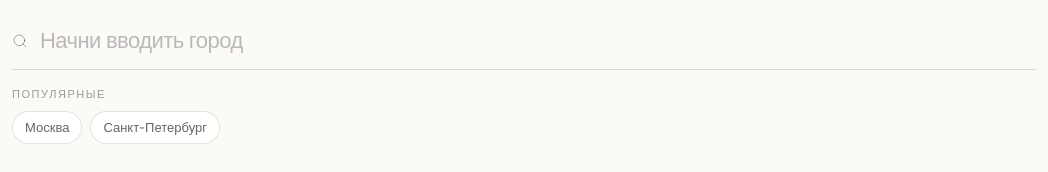
Test: CityPicker › shows an accessible alert when the search fails (not a silent empty list)
Type "Мос" into the field at coordinates (524, 41), box 12,12 -> 1036,70
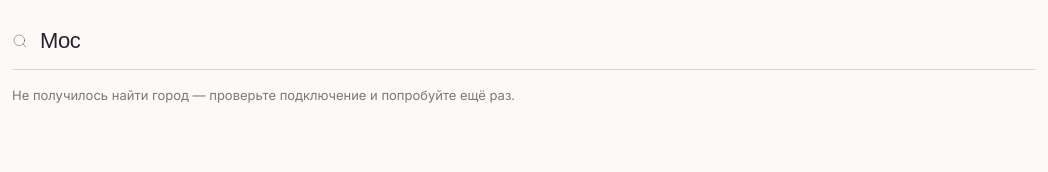
expect the message shows "Не получилось найти город": met, box 12,87 -> 515,103
